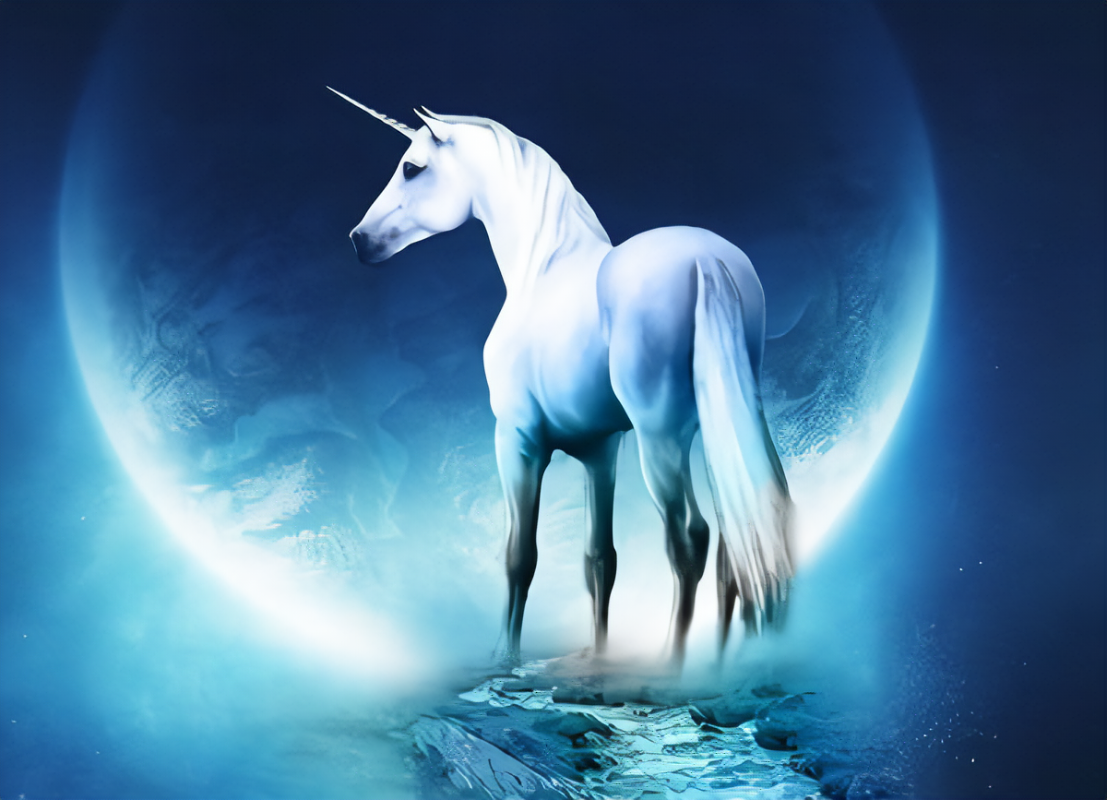background: (315, 78, 804, 700)
